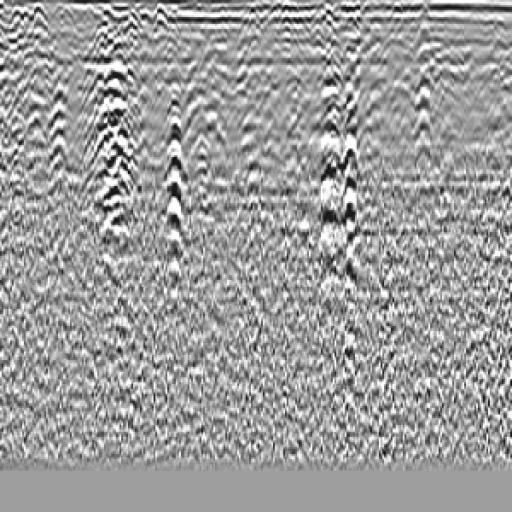metalic: (80, 21, 154, 243)
